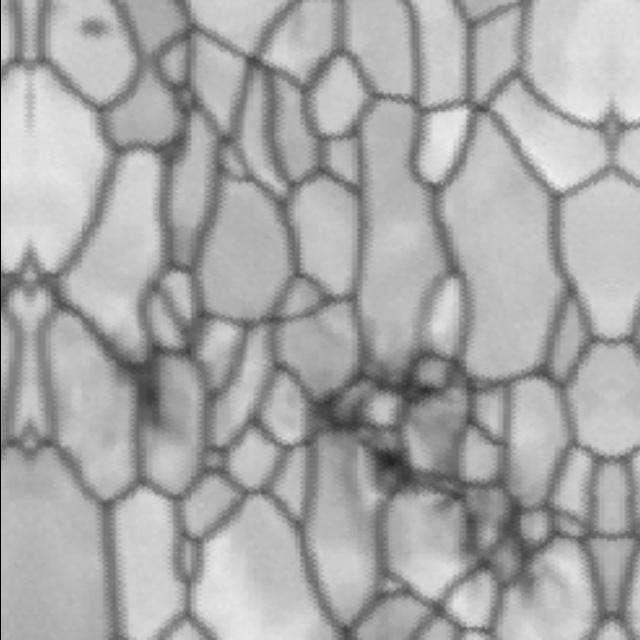good_void: (99, 337, 182, 426), (362, 434, 420, 509), (75, 8, 116, 47)
